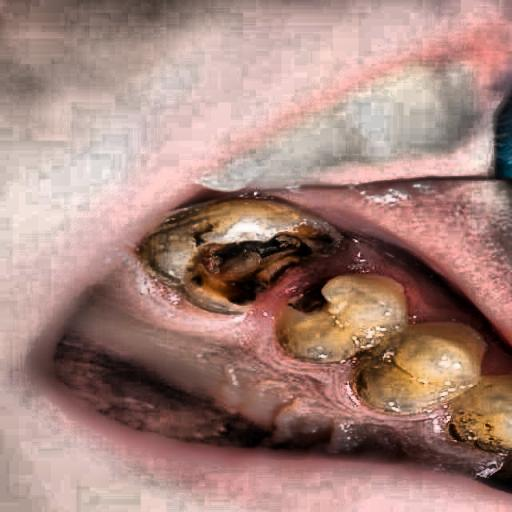Caries: (164, 198, 361, 333)
